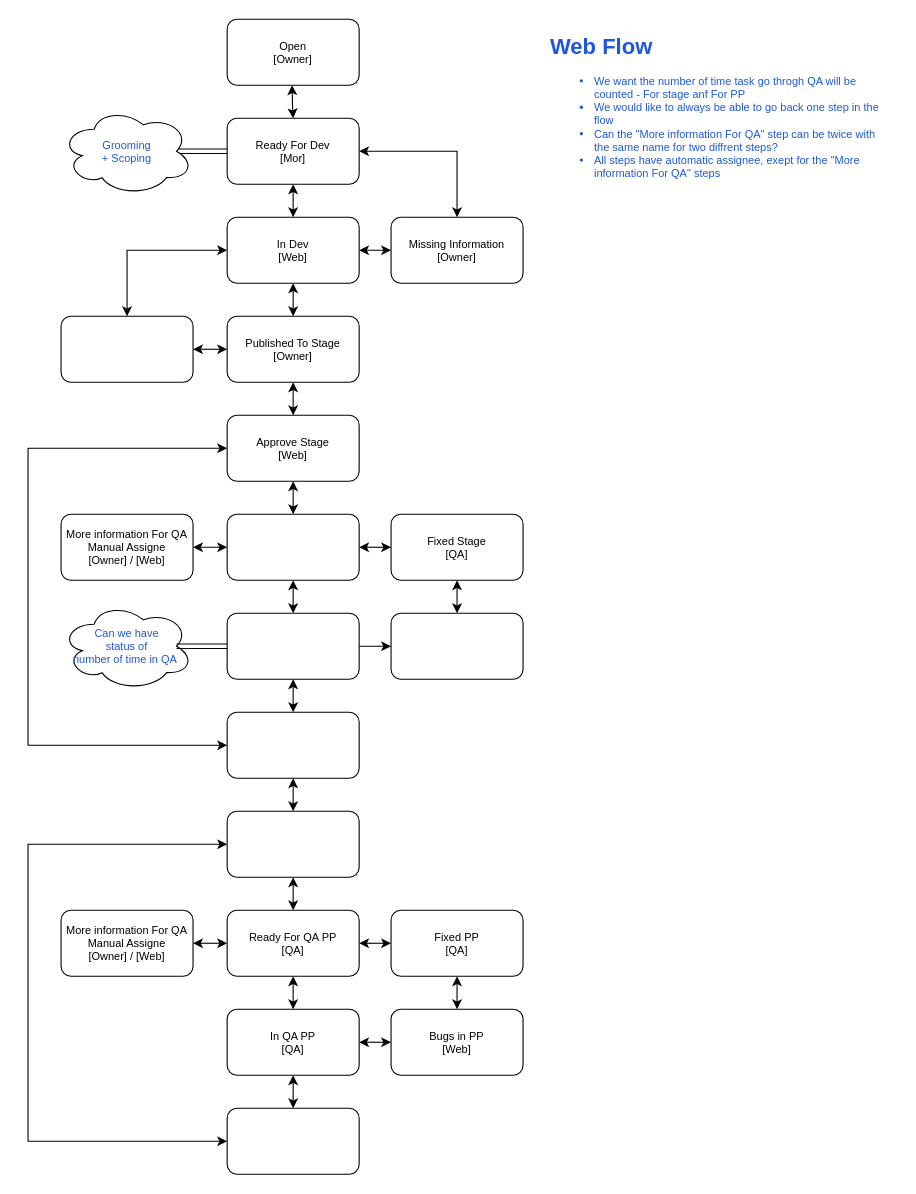
The diagram is 916 pixels wide and 1194 high, and some of its shapes have lost their labels. Here are the shapes that lost their labels. From the top down, the box of each, then its label:
(60, 315, 193, 382): Changes Needed [Web]
(226, 513, 359, 580): Ready For QA Stage [QA]
(226, 612, 359, 679): In QA Stage [QA]
(390, 612, 523, 679): Bugs in Stage [Web]
(226, 711, 359, 778): Approved QA On Stage [Owner]
(226, 810, 359, 877): Approve Publish To PP [Web]
(226, 1107, 359, 1174): Done [Owner]
